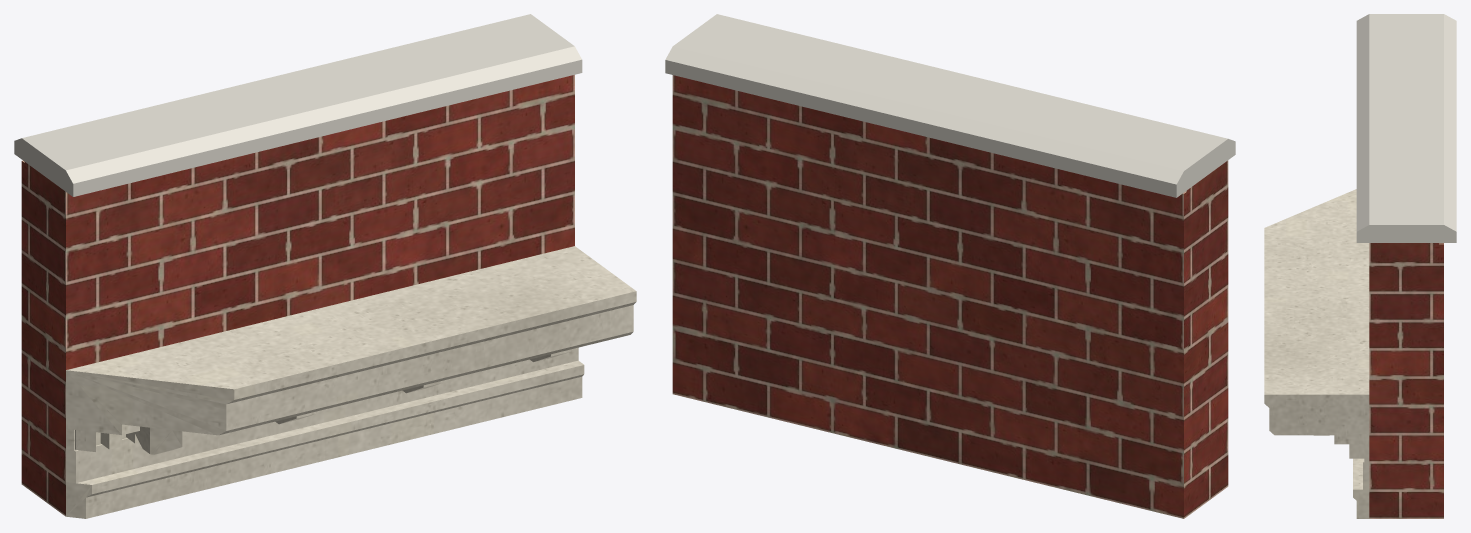
Rendered from parapet_pvr.glb.
The picture shows the model from 3 angles, left to right: view 1: azimuth 30°, elevation 25°; view 2: azimuth 150°, elevation 25°; view 3: azimuth 270°, elevation 25°; orthographic projection. The views are drawn at different scales.
Visible parts, largest first — view 1: parapet_pvr_brick, parapet_pvr_trim, parapet_pvr_coping; view 2: parapet_pvr_brick, parapet_pvr_coping; view 3: parapet_pvr_trim, parapet_pvr_coping, parapet_pvr_brick.
Boxes of the visible parts, bbox=[...] form: parapet_pvr_brick: bbox=[21, 75, 574, 516]; parapet_pvr_trim: bbox=[66, 246, 636, 518]; parapet_pvr_coping: bbox=[14, 14, 582, 196]; parapet_pvr_brick: bbox=[672, 75, 1228, 518]; parapet_pvr_coping: bbox=[665, 14, 1235, 197]; parapet_pvr_trim: bbox=[1264, 189, 1369, 518]; parapet_pvr_coping: bbox=[1356, 14, 1456, 242]; parapet_pvr_brick: bbox=[1369, 243, 1443, 518].
Bounding box in the file's own units: 2 × 1.3 × 0.77.
Materials: 3 (2 with a texture image).
